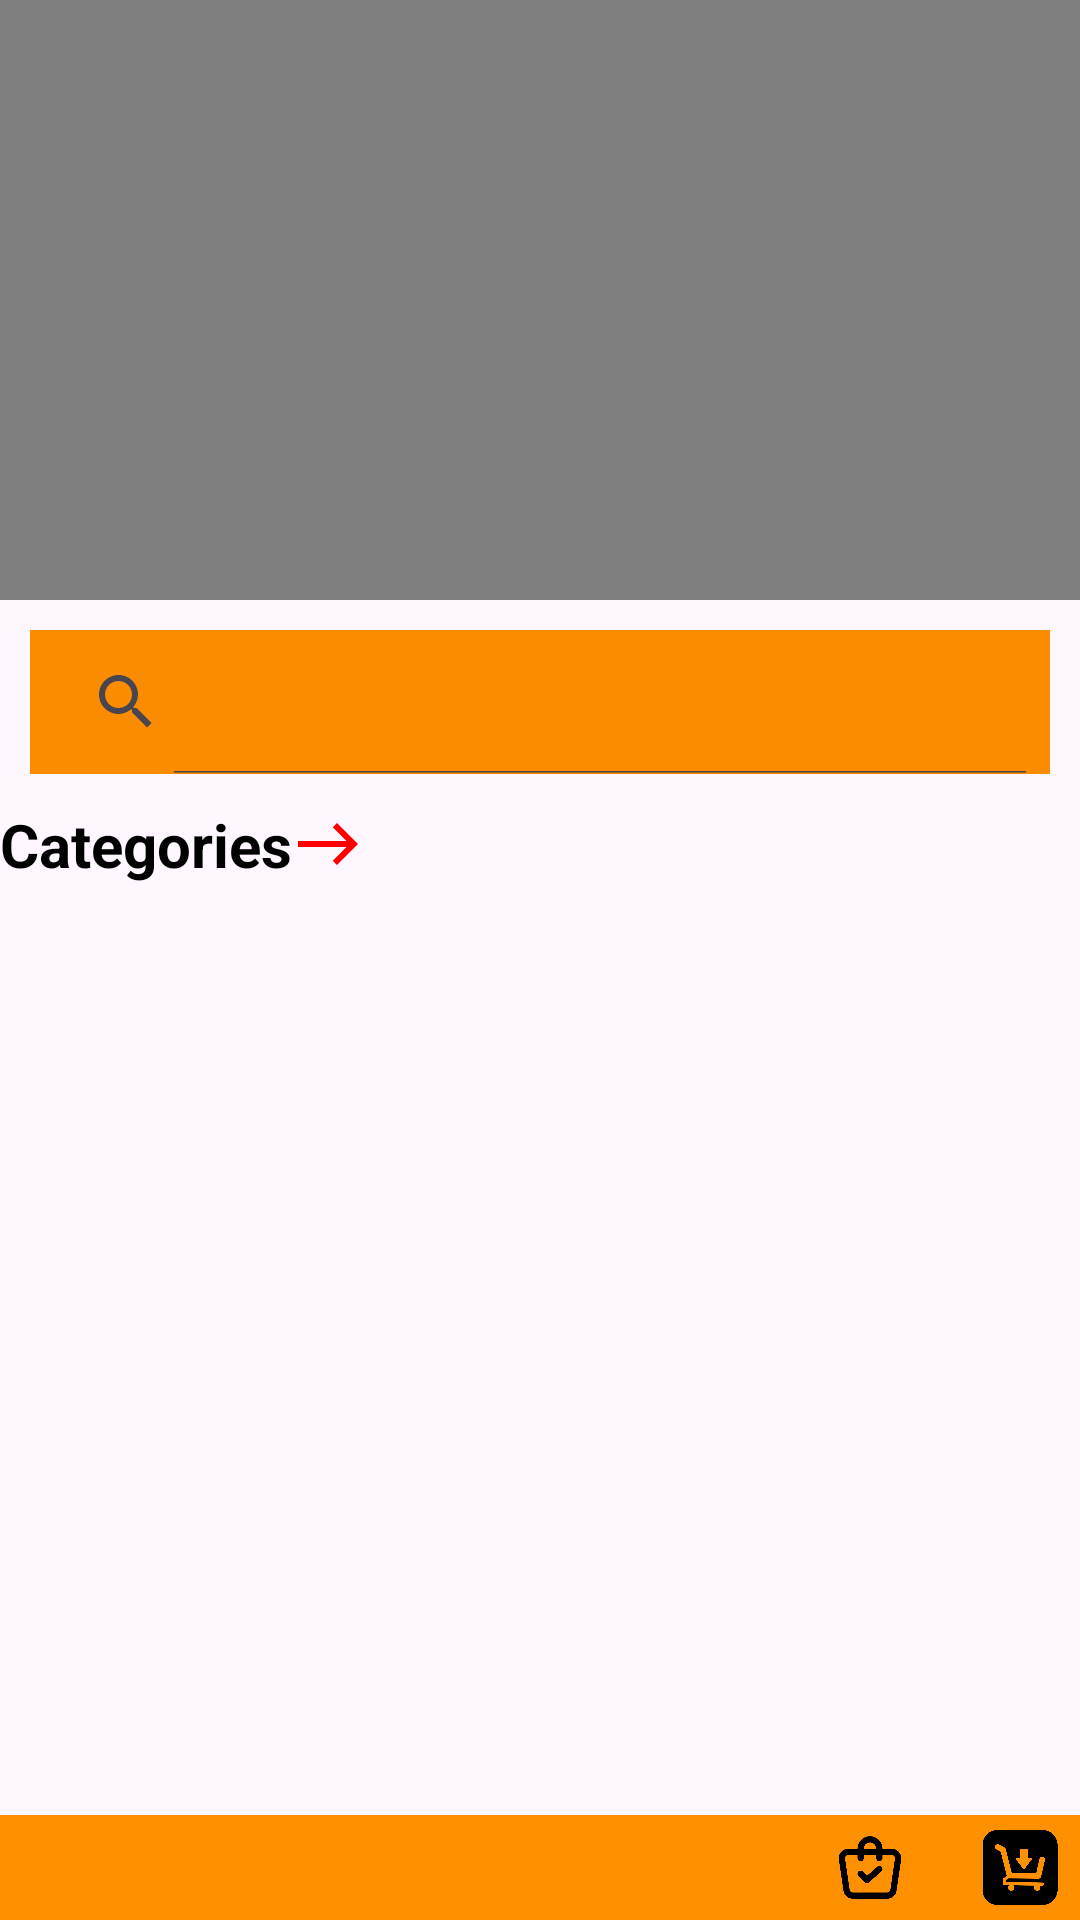

Screen size 1080x1920. Icon name, then its center in pixels as point (x, y):
order: point (870, 1867)
trally: point (1020, 1867)
